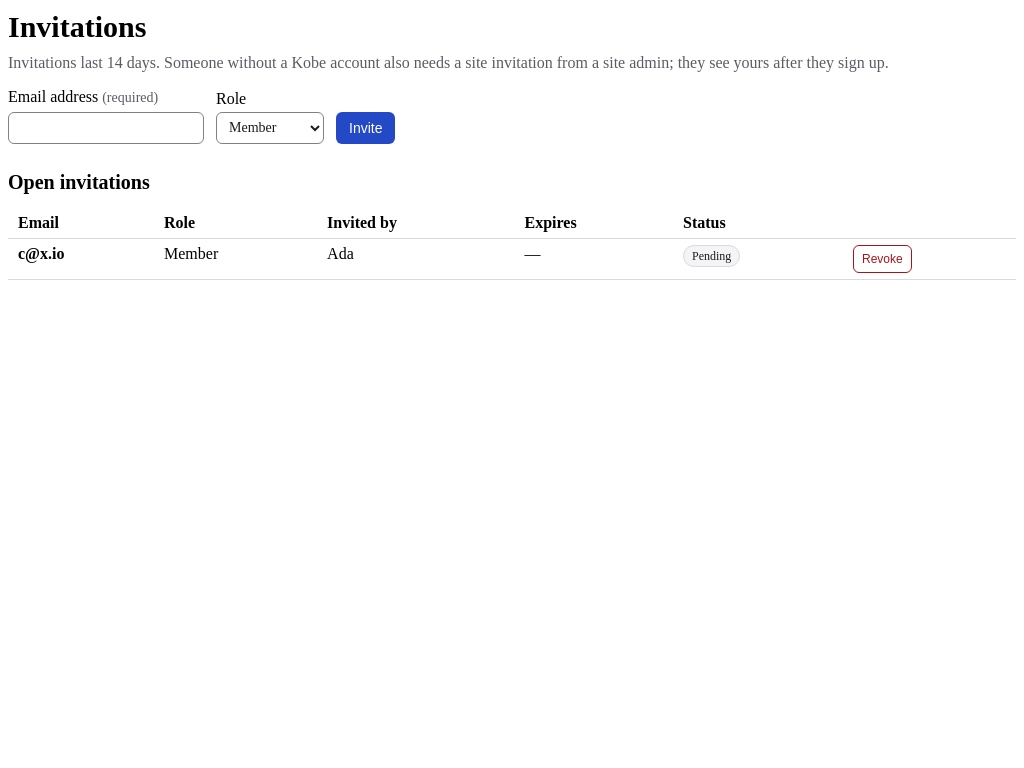
Test: Team invitations › keeps the invitation when the revoke is cancelled
Click the button named "Revoke invitation to c@x.io".
click(882, 258)  # box [853, 244, 912, 272]
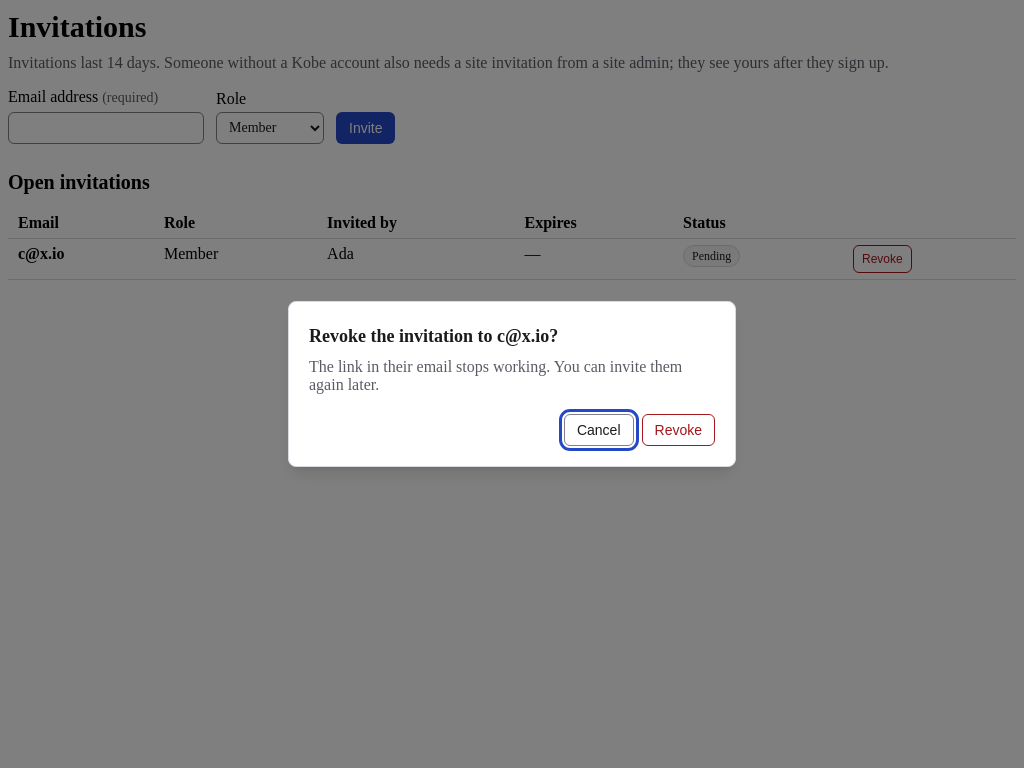
Click the button "Cancel".
click(599, 430)  # box [564, 414, 634, 446]
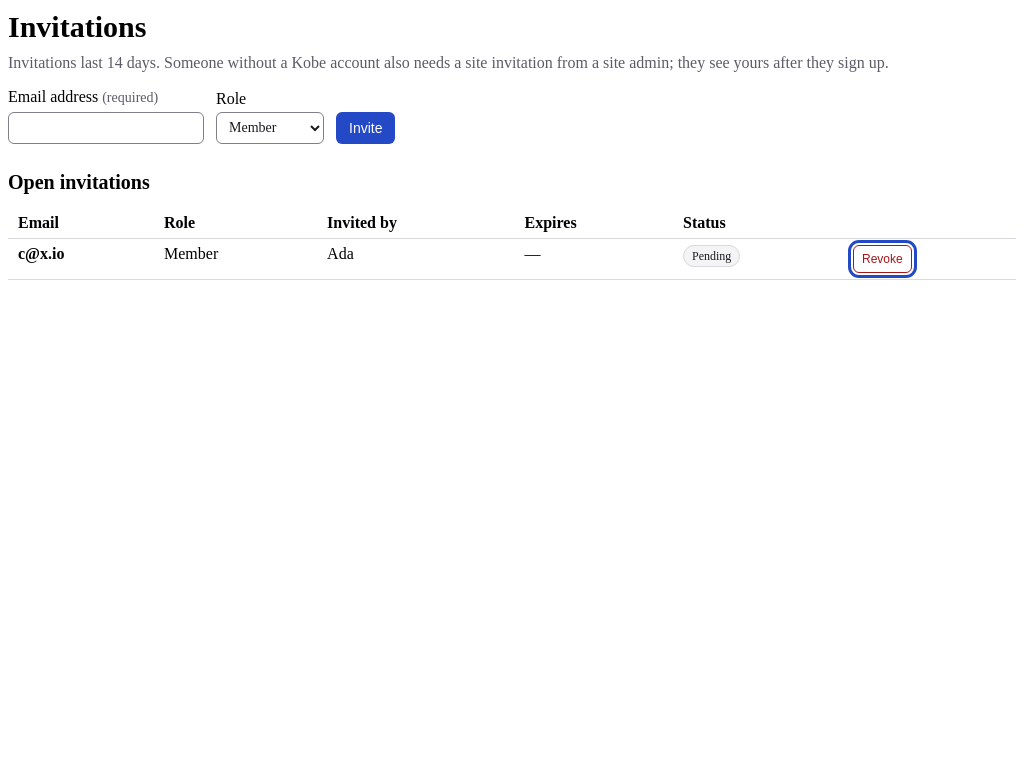
Now the dialog is gone
